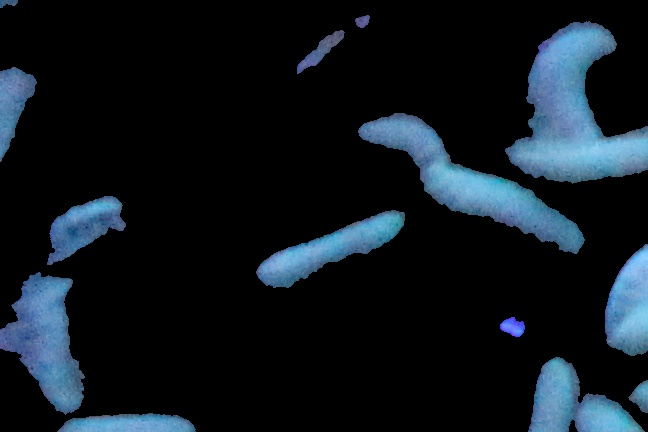larvae: (1, 192, 143, 415), (419, 170, 585, 261), (253, 211, 403, 293), (526, 29, 616, 144), (502, 129, 648, 180), (356, 110, 451, 162), (529, 350, 577, 432)
